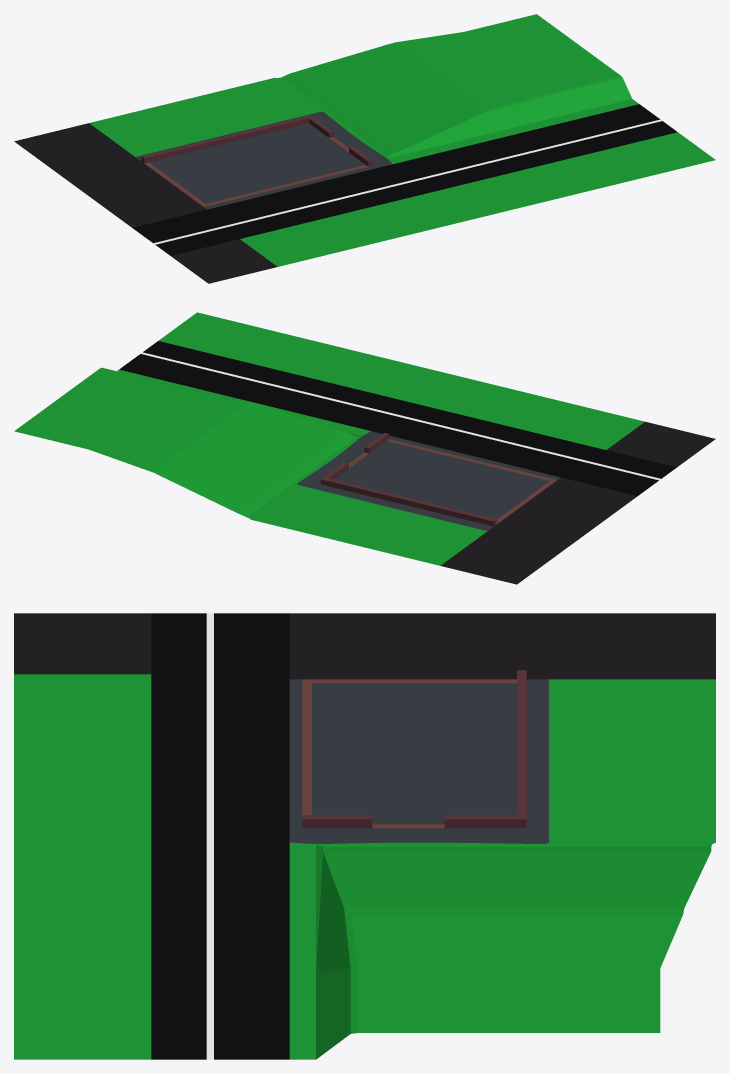
File: FirstLevel 1.fbx
The picture shows the model from 3 angles, top to bottom: view 1: azimuth 30°, elevation 25°; view 2: azimuth 150°, elevation 25°; view 3: azimuth 270°, elevation 25°; orthographic projection. The views are drawn at different scales.
Parts seen in each view (by area): view 1: TheLevel; view 2: TheLevel; view 3: TheLevel.
Boxes of the visible parts, bbox=[...] form: TheLevel: bbox=[14, 14, 715, 283]; TheLevel: bbox=[14, 312, 715, 584]; TheLevel: bbox=[14, 613, 715, 1059].
Size of what is drawn, in the model's own units: 6988 by 10516 by 293.
